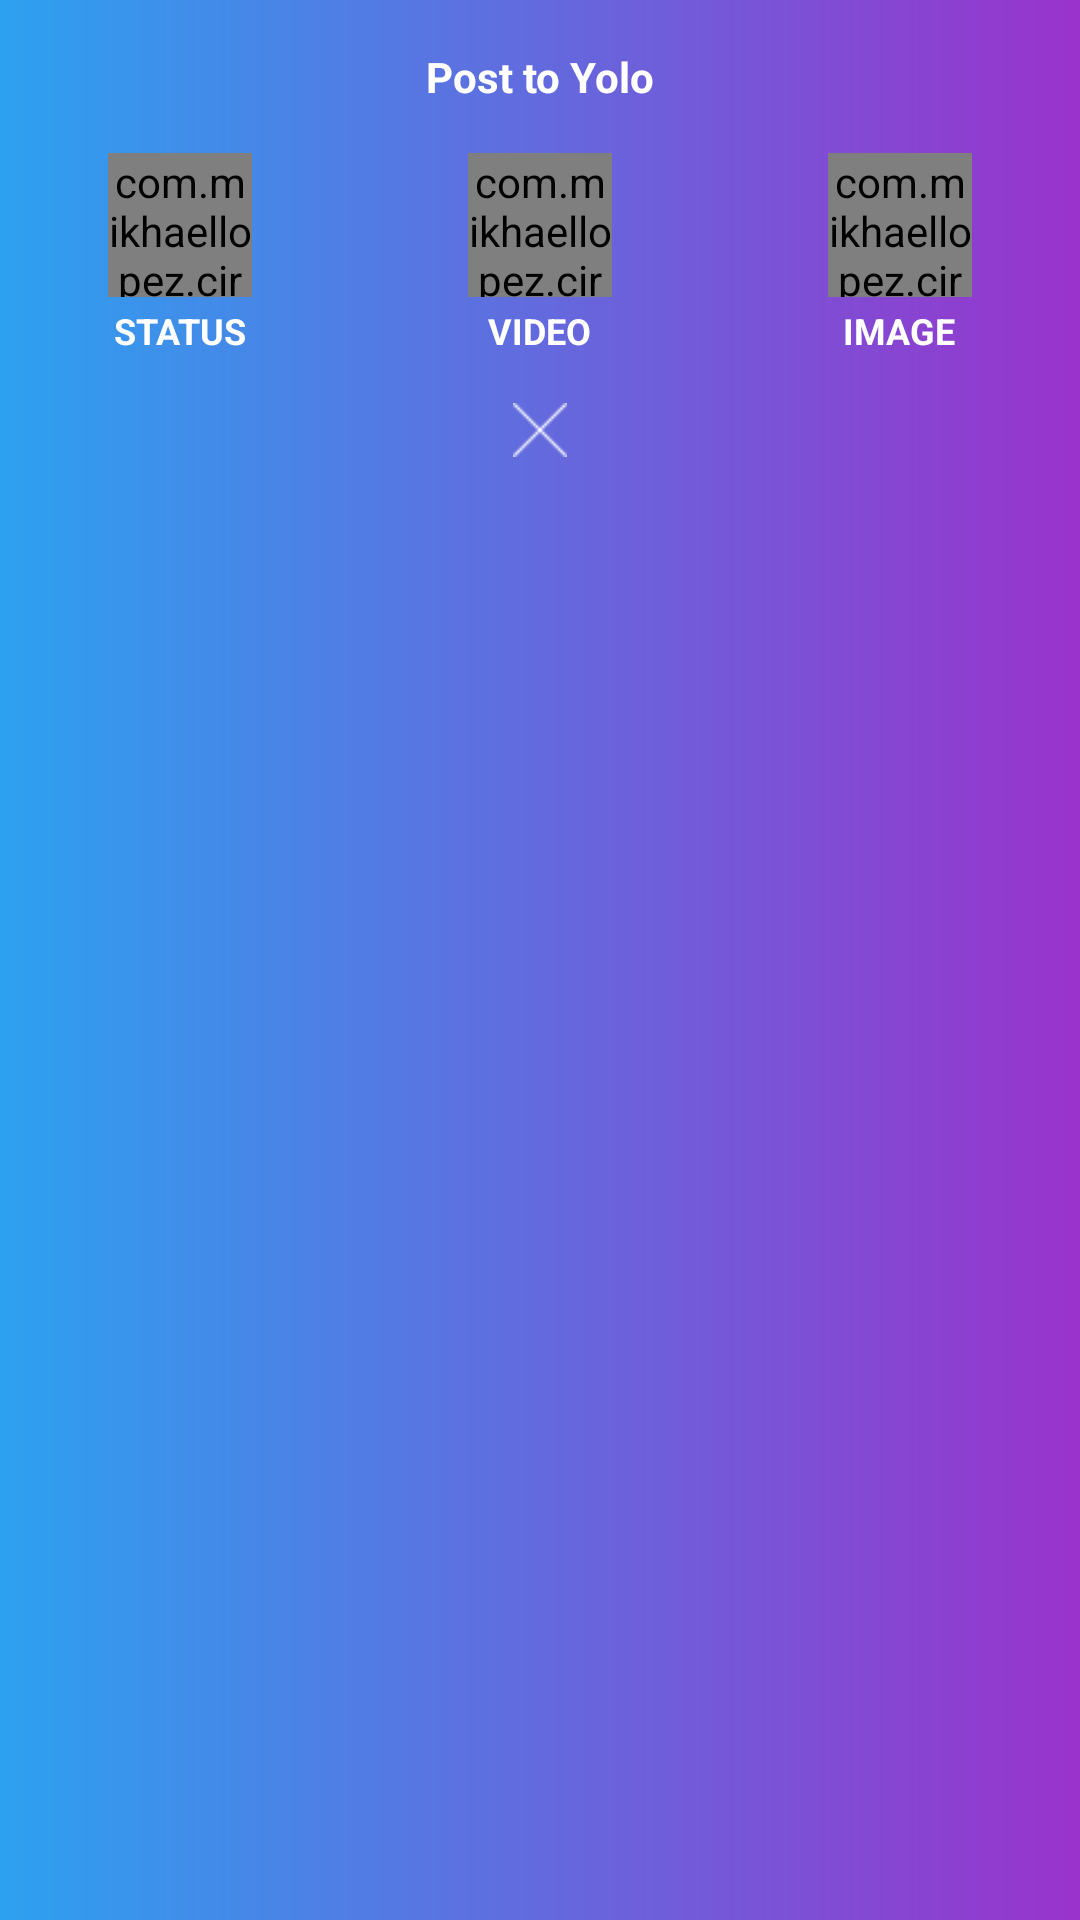

Screen size 1080 x 1920. Icon name, then its box in pixels as (x1, y1, x2, y2):
cross out: (513, 403, 567, 457)
